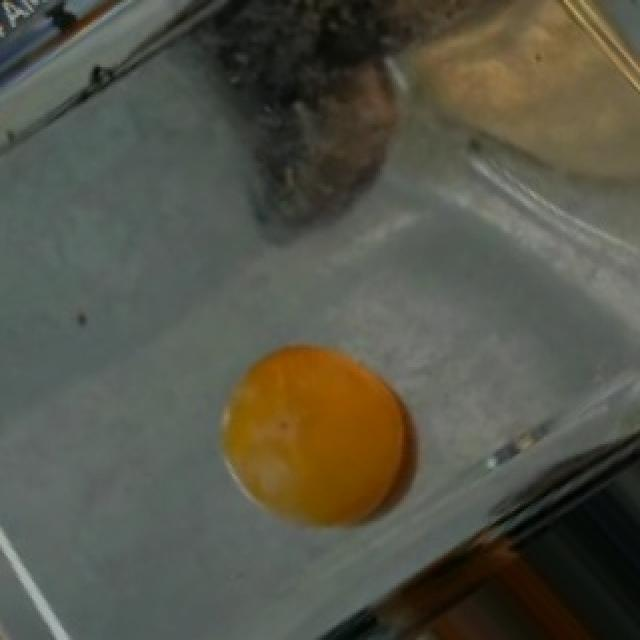Fruit: (202, 325, 428, 553)
